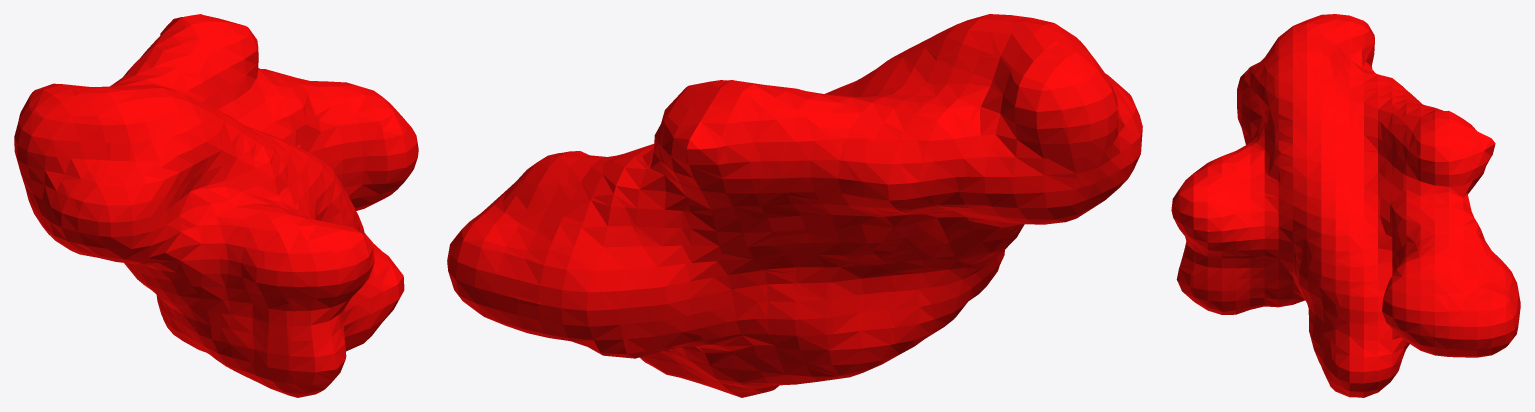
File: gltK_coarse.dae
3 views of the same model, side by side, from view 1: azimuth 30°, elevation 25°; view 2: azimuth 150°, elevation 25°; view 3: azimuth 270°, elevation 25° (orthographic). The views are drawn at different scales.
Visible parts, largest first — view 1: gltK; view 2: gltK; view 3: gltK.
Boxes of the visible parts, <box> form: gltK: <box>14,14,418,397</box>; gltK: <box>447,14,1142,397</box>; gltK: <box>1171,14,1520,397</box>.
Size of the model in its own units: 70.38 by 50.29 by 57.97.
